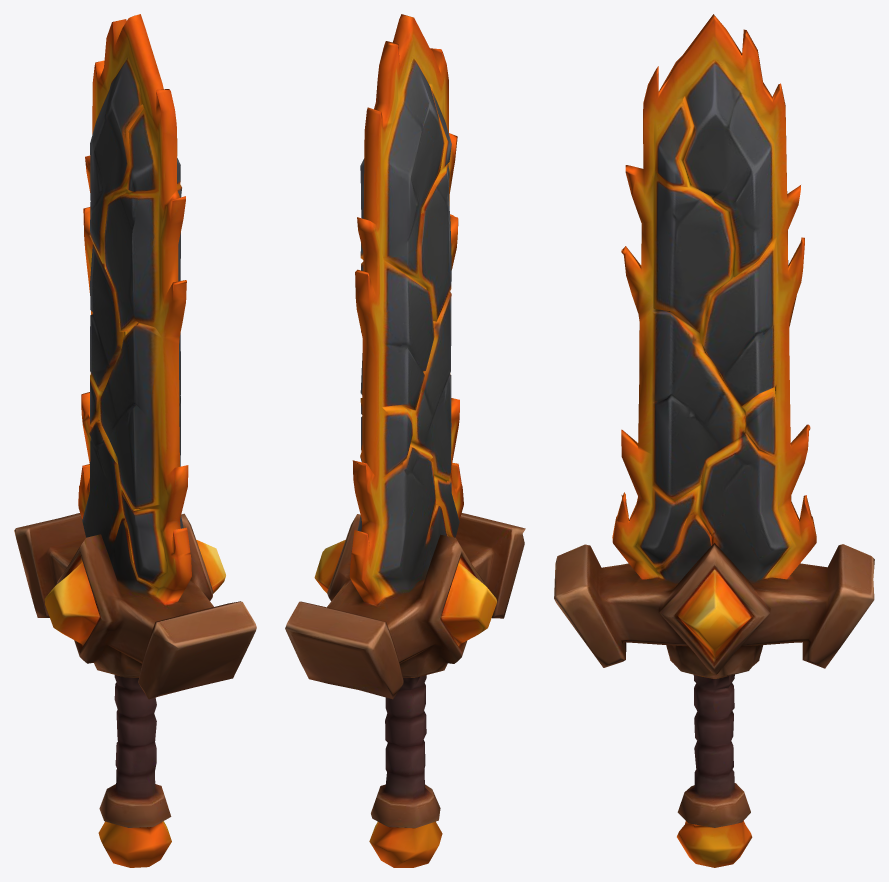
The model's file is exp_emberknight_weapon.glb.
3 views of the same model, side by side, from view 1: azimuth 30°, elevation 25°; view 2: azimuth 150°, elevation 25°; view 3: azimuth 270°, elevation 25° (orthographic).
Parts seen in each view (by area): view 1: Weapon; view 2: Weapon; view 3: Weapon.
Part boxes in pixels (bbox=[...]): Weapon: bbox=[14, 14, 256, 867]; Weapon: bbox=[285, 14, 525, 867]; Weapon: bbox=[554, 14, 874, 867].
Size of the model in its own units: 0.1972 by 0.9772 by 0.3342.
Materials: 1 (1 with a texture image).
